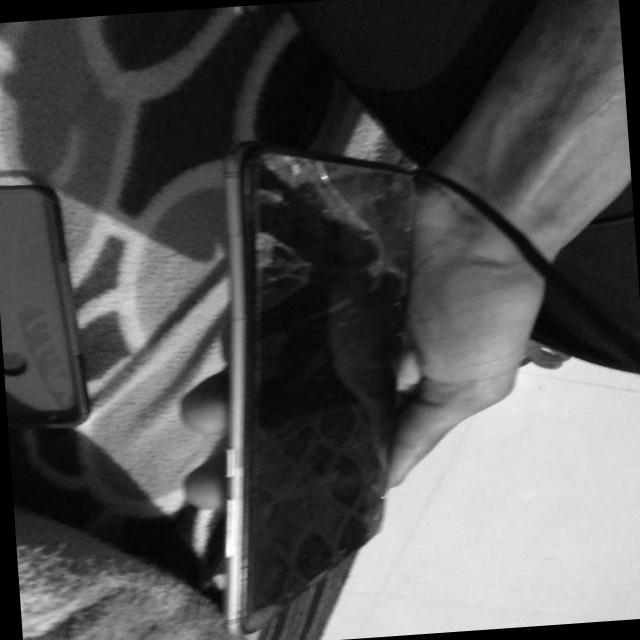screen crack: (220, 142, 396, 320)
